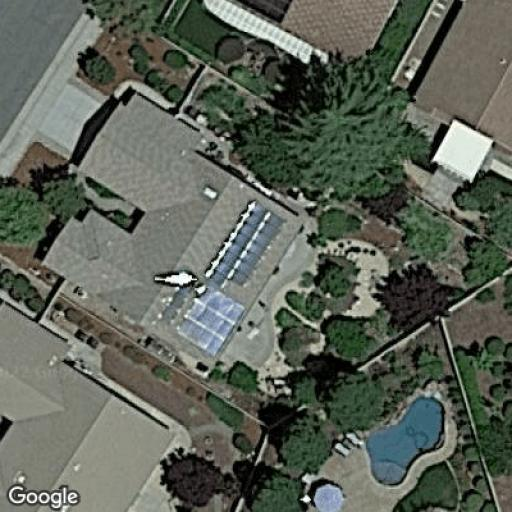solar-panel: (205, 196, 288, 293), (177, 285, 245, 355), (237, 0, 294, 26)
